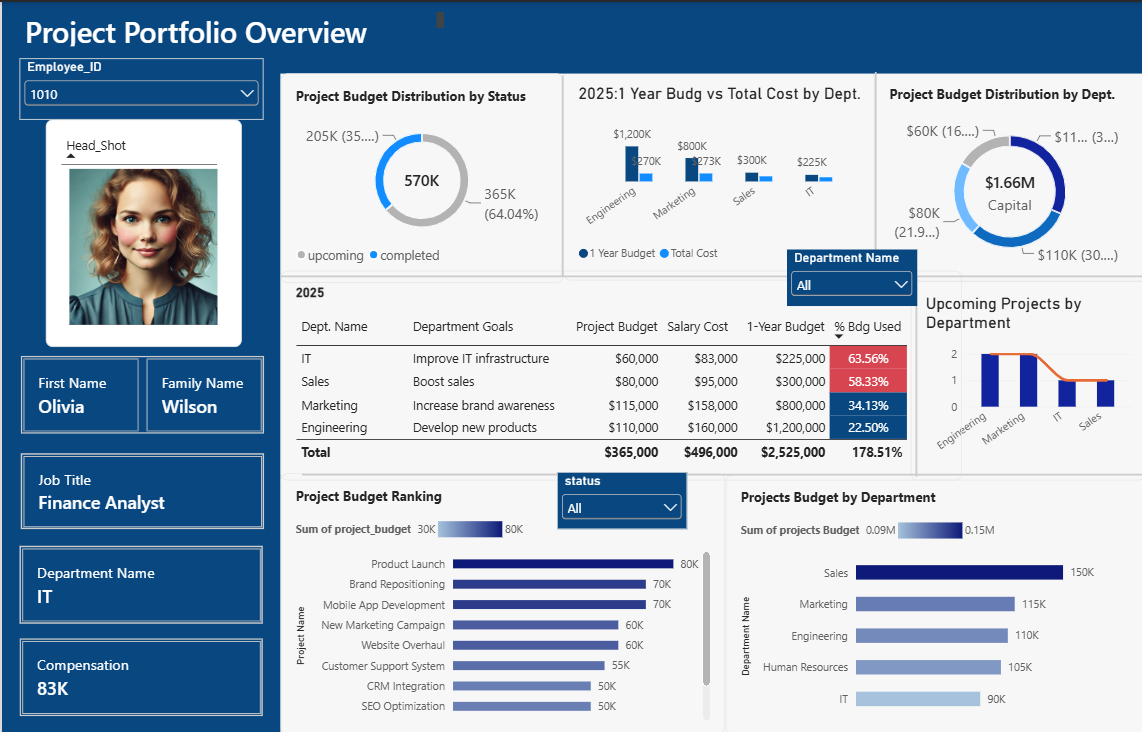

The page's visual inventory and layout, read from the dashboard file:
{"tool":"powerbi","page":{"name":"Page 1","canvas":[1280,820],"ordinal":0},"visuals":[{"type":"tableEx","title":"2025","fields":{"Values":["Cost.Department_Name","Cost.Department_Goals","Sum(Cost.Project Cost)","Sum(Cost.Salary Cost)","Sum(Cost.1-Year Budget)","Sum(Cost.Budged Used %)"]},"box":[311.6,300.4,761.6,234.8],"z":0},{"type":"barChart","title":"Avg. Project Budget","fields":{"Category":["Dept_Status.Department_Name"],"Y":["Sum(Dept_Status.Avg_Project_Cost)"]},"box":[1022.5,306.2,257.5,220],"z":1000},{"type":"donutChart","title":"Project Budget Distribution by Dept.","fields":{"Category":["Cost.Department_Name"],"Y":["Sum(Cost.Project Cost)"]},"box":[975.7,77.1,302.9,235.7],"z":3000},{"type":"clusteredColumnChart","title":"2025:1 Year Budg vs Total Cost by Dept.","fields":{"Y":["Sum(Cost.1-Year Budget)","Sum(Cost.Total Cost)"],"Category":["Cost.Department_Name"]},"box":[627.4,76.9,348.2,234.5],"z":4000},{"type":"shape","box":[0,0,1910,80],"z":5000},{"type":"shape","box":[0,0,311.4,1080],"z":6000},{"type":"tableEx","fields":{"Values":["Head_Shots.Head_Shot"]},"box":[48.6,131.4,218.9,254.4],"z":7000},{"type":"slicer","fields":{"Values":["Head_Shots.Employee_ID"]},"box":[19.6,62.9,272.9,68.6],"z":8000},{"type":"cardVisual","fields":{"Data":["Min(Query1.first_name)","Min(Query1.last_name)"]},"box":[21.4,395.7,272.9,87.1],"z":9000},{"type":"cardVisual","fields":{"Data":["Min(Query1.job_title)"]},"box":[21.4,504.3,272.9,85.7],"z":10000},{"type":"cardVisual","fields":{"Data":["Min(Query1.Department_Name)"]},"box":[20,608.6,272.9,87.1],"z":11000},{"type":"cardVisual","fields":{"Data":["Sum(Query1.salary)"]},"box":[20,711.4,272.9,87.1],"z":12000},{"type":"cardVisual","fields":{"Data":["Sum(Cost.Capital)"]},"box":[1073.2,169.1,107.1,90],"z":13000},{"type":"donutChart","title":"Project Budget Distribution by Status","fields":{"Category":["Query1.status"],"Y":["Sum(Query1.project_budget)"]},"box":[311.6,79.7,315.8,234.8],"z":14000},{"type":"cardVisual","fields":{"Data":["Sum(Query1.project_budget)"]},"box":[410.8,152.3,116.4,92.7],"z":15000},{"type":"clusteredBarChart","title":"Project Budget Ranking","fields":{"Category":["Query1.project_name"],"Y":["Sum(Query1.project_budget)"]},"box":[311.6,526.8,497.1,292.9],"z":16000},{"type":"clusteredBarChart","title":"Projects Budget by Department","fields":{"Category":["Query1.Department_Name"],"Y":["Sum(Query1.project_budget)"]},"box":[808.6,528.6,471.4,291.4],"z":17000},{"type":"shape","box":[335.7,521.4,944.3,14.3],"z":18000},{"type":"shape","box":[311.6,299,968.4,15.4],"z":19000},{"type":"shape","box":[588.3,82.4,76.9,225],"z":20000},{"type":"slicer","fields":{"Values":["Query1.status"]},"box":[620.5,525.4,145.3,64.3],"z":21000},{"type":"textbox","box":[25.7,11.4,468.6,38.6],"z":22000},{"type":"shape","box":[939.1,78.3,75.5,229.2],"z":23000},{"type":"shape","box":[983.8,307.4,76.9,223.6],"z":24000},{"type":"slicer","fields":{"Values":["Cost.Department_Name"]},"box":[877.6,276.7,145.3,62.9],"z":25000}]}

Visuals, with their boxes in screenshot pixels (x1, y1, x2, y2), scaled from the page's 1280x820 canvas onto the 1142x732 screenshot:
"2025" tableEx: detection(278, 268, 957, 478)
"Avg. Project Budget" barChart: detection(912, 273, 1141, 470)
"Project Budget Distribution by Dept." donutChart: detection(871, 69, 1141, 279)
"2025:1 Year Budg vs Total Cost by Dept." clusteredColumnChart: detection(560, 69, 870, 278)
shape: detection(0, 0, 1141, 71)
shape: detection(0, 0, 278, 731)
tableEx - Head_Shots.Head_Shot: detection(43, 117, 239, 344)
slicer - Head_Shots.Employee_ID: detection(17, 56, 261, 117)
cardVisual - Min(Query1.first_name) x Min(Query1.last_name): detection(19, 353, 263, 431)
cardVisual - Min(Query1.job_title): detection(19, 450, 263, 527)
cardVisual - Min(Query1.Department_Name): detection(18, 543, 261, 621)
cardVisual - Sum(Query1.salary): detection(18, 635, 261, 713)
cardVisual - Sum(Cost.Capital): detection(957, 151, 1053, 231)
"Project Budget Distribution by Status" donutChart: detection(278, 71, 560, 281)
cardVisual - Sum(Query1.project_budget): detection(367, 136, 470, 219)
"Project Budget Ranking" clusteredBarChart: detection(278, 470, 722, 731)
"Projects Budget by Department" clusteredBarChart: detection(721, 472, 1141, 731)
shape: detection(300, 465, 1141, 478)
shape: detection(278, 267, 1141, 281)
shape: detection(525, 74, 593, 274)
slicer - Query1.status: detection(554, 469, 683, 526)
textbox: detection(23, 10, 441, 45)
shape: detection(838, 70, 905, 274)
shape: detection(878, 274, 946, 474)
slicer - Cost.Department_Name: detection(783, 247, 913, 303)
